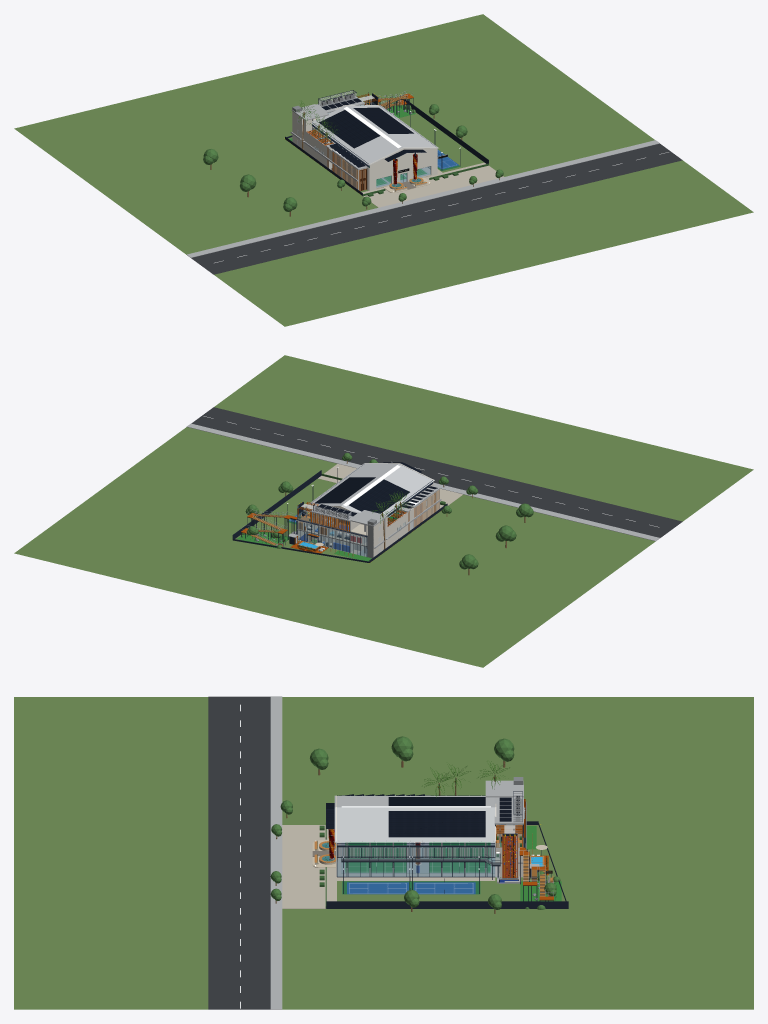
File: MyPlace_Master_vE1.dae
3 renders of one model, top to bottom at view 1: azimuth 30°, elevation 25°; view 2: azimuth 150°, elevation 25°; view 3: azimuth 270°, elevation 25°, orthographic. The views are drawn at different scales.
Parts seen in each view (by area): view 1: site__grass, site__asphalt, site__concrete, hall_roof__roofSheet, hall_roof__solar, site__paving, hall_shell__plaster, west_wing__plaster, trees__treeCrown, fences__charcoal; view 2: site__grass, site__asphalt, hall_roof__roofSheet, site__concrete, hall_roof__solar, trees__treeCrown, west_wing__plaster, fences__charcoal, rear_GF__glass, site__paving, rear_L2__glass, outdoor__turf; view 3: site__grass, site__asphalt, site__concrete, site__paving, hall_roof__roofSheet, hall_shell__glass, hall_roof__solar, hall_interior__court, trees__treeCrown, fences__charcoal, outdoor__pickleTex, east_catwalk__louvre (+8 smaller).
Boxes of the visible parts, x1,y1,x2,y2 form: site__grass: (14, 14, 753, 326); site__asphalt: (191, 143, 682, 274); site__concrete: (187, 140, 659, 257); hall_roof__roofSheet: (312, 105, 438, 165); hall_roof__solar: (319, 107, 413, 148); site__paving: (362, 162, 503, 207); hall_shell__plaster: (312, 105, 437, 190); west_wing__plaster: (292, 111, 366, 190); trees__treeCrown: (203, 96, 503, 211); fences__charcoal: (285, 95, 488, 195); site__grass: (14, 355, 753, 667); site__asphalt: (191, 407, 682, 537); hall_roof__roofSheet: (309, 463, 434, 515); site__concrete: (186, 423, 659, 541); hall_roof__solar: (314, 477, 409, 513); trees__treeCrown: (245, 452, 533, 569); west_wing__plaster: (373, 489, 439, 557); fences__charcoal: (232, 470, 447, 562); rear_GF__glass: (297, 530, 367, 556); site__paving: (318, 464, 462, 508); rear_L2__glass: (297, 521, 367, 545); outdoor__turf: (237, 529, 371, 561); site__grass: (14, 697, 753, 1009); site__asphalt: (208, 696, 270, 1009); site__concrete: (270, 696, 499, 1009); site__paving: (282, 825, 495, 908); hall_roof__roofSheet: (334, 795, 495, 842); hall_shell__glass: (337, 847, 495, 876); hall_roof__solar: (388, 797, 485, 837); hall_interior__court: (345, 842, 490, 872); trees__treeCrown: (270, 736, 556, 909); fences__charcoal: (326, 821, 568, 908); outdoor__pickleTex: (347, 882, 475, 894); east_catwalk__louvre: (338, 847, 494, 857).
Bounding box in the file's own units: 160 × 160 × 16.84.
97 materials, 7 textured.
